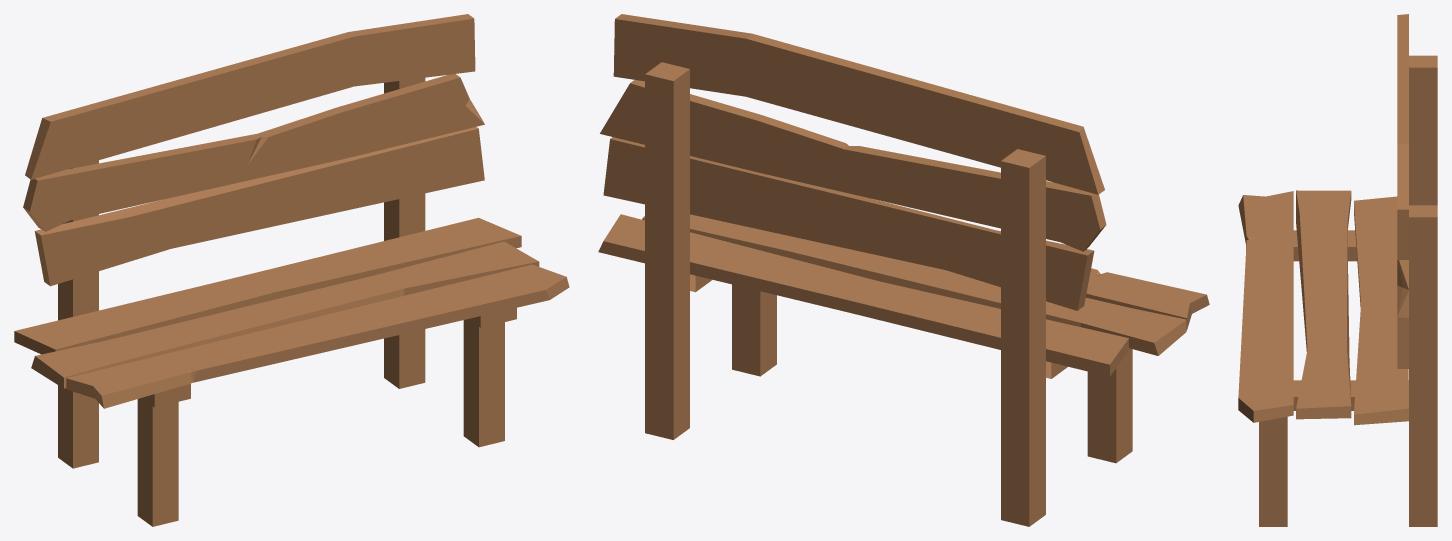
The model's file is Bench_5.fbx.
The picture shows the model from 3 angles, left to right: view 1: azimuth 30°, elevation 25°; view 2: azimuth 150°, elevation 25°; view 3: azimuth 270°, elevation 25°; orthographic projection. The views are drawn at different scales.
Visible parts, largest first — view 1: Bench_5; view 2: Bench_5; view 3: Bench_5.
Part boxes in pixels (x1,y1,x2,y2): Bench_5: (14, 14, 569, 526); Bench_5: (598, 14, 1209, 526); Bench_5: (1238, 14, 1437, 526).
Size of the model in its own units: 149 by 55.53 by 107.
